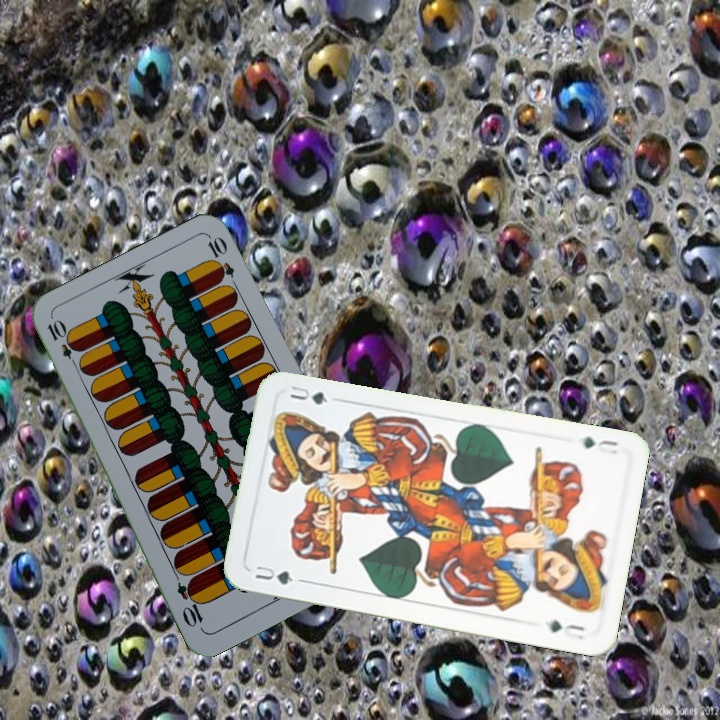E10: (43, 316, 83, 372)
GU: (251, 561, 296, 588), (578, 432, 621, 457)
